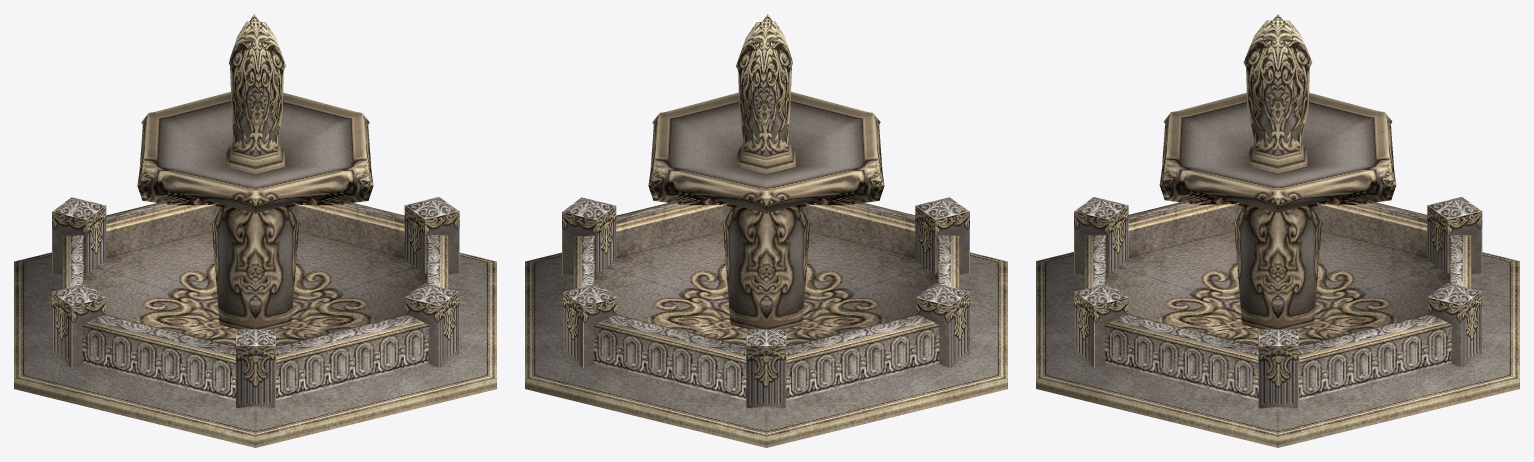
3 views of the same model, side by side, from view 1: azimuth 30°, elevation 25°; view 2: azimuth 150°, elevation 25°; view 3: azimuth 270°, elevation 25° (orthographic).
Parts seen in each view (by area): view 1: rd_fo2-col; view 2: rd_fo2-col; view 3: rd_fo2-col.
Part boxes in pixels (box(x1,y1,x2,y2)): rd_fo2-col: box(14, 14, 496, 447); rd_fo2-col: box(525, 14, 1007, 447); rd_fo2-col: box(1036, 14, 1519, 447).
Size of the model in its own units: 10.69 by 6.58 by 9.26.
2 materials, 2 textured.
